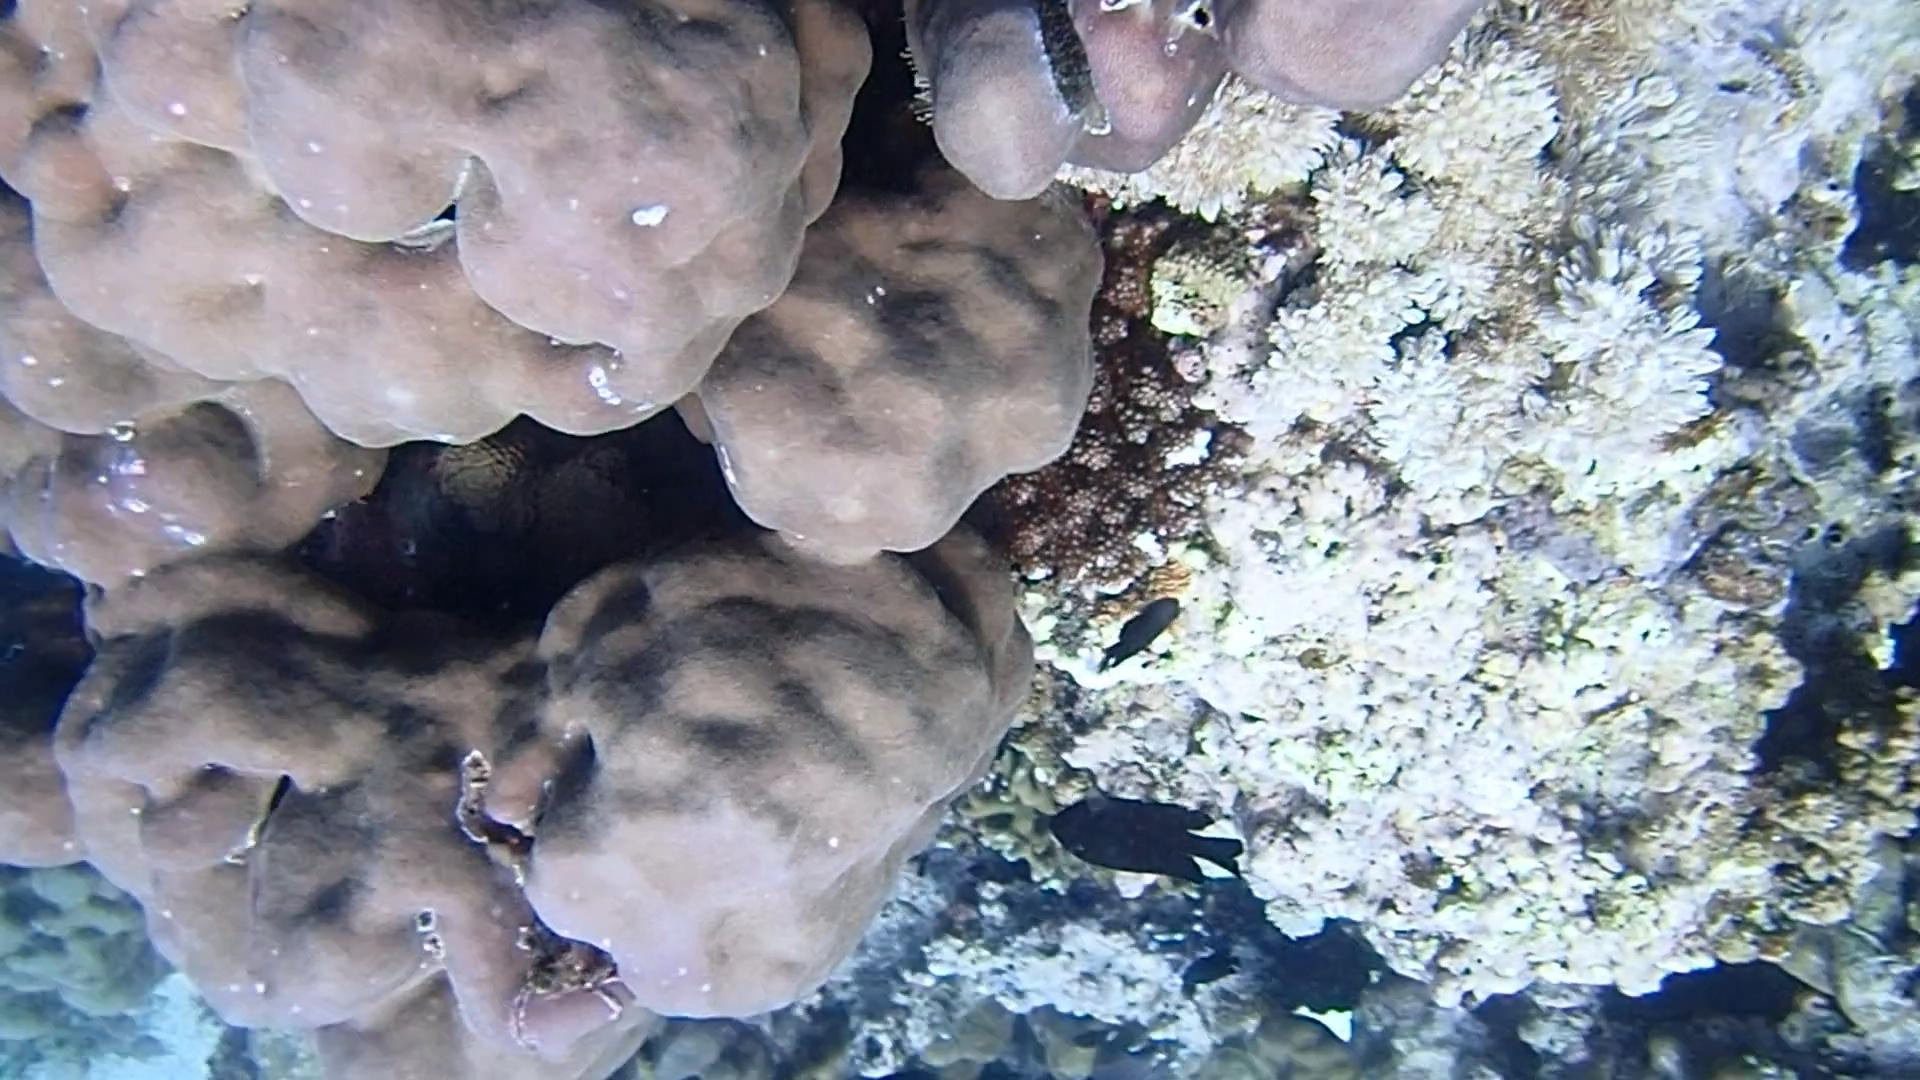Dark Fish: (1040, 778, 1247, 898), (1096, 587, 1183, 676), (1178, 943, 1244, 992)
